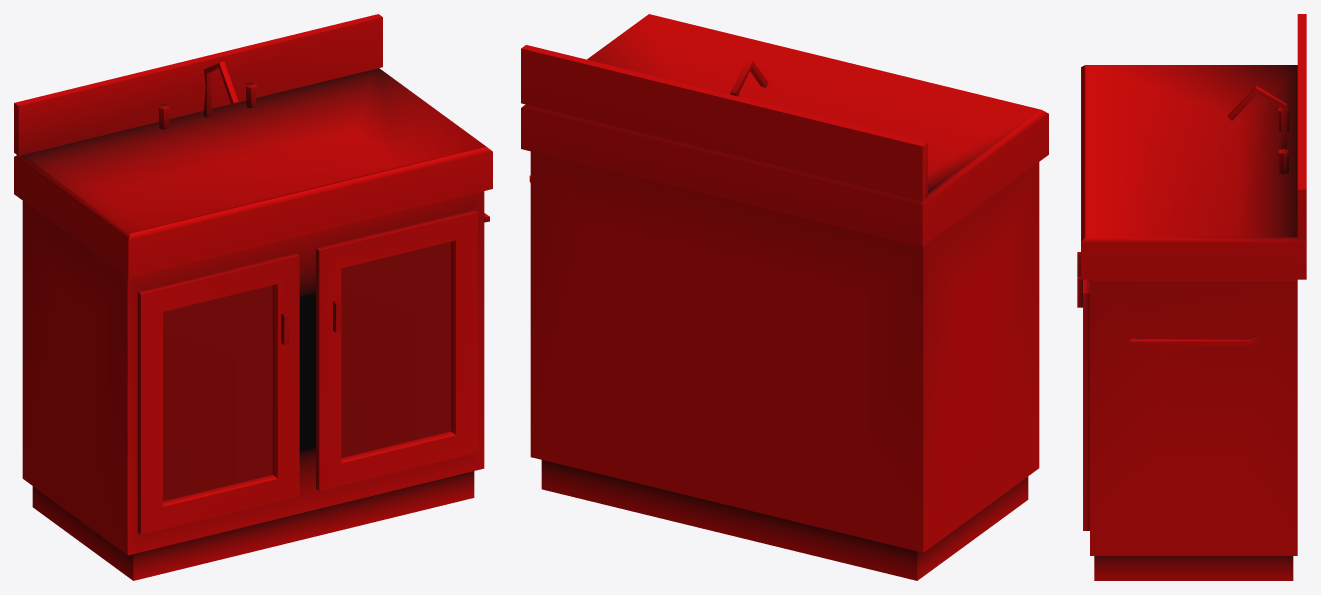
File: CI_Bathroom_Vanity_Basin.glb
3 renders of one model, left to right at view 1: azimuth 30°, elevation 25°; view 2: azimuth 150°, elevation 25°; view 3: azimuth 270°, elevation 25°, orthographic. The views are drawn at different scales.
Parts seen in each view (by area): view 1: CI_Bathroom_Vanity_Basin; view 2: CI_Bathroom_Vanity_Basin; view 3: CI_Bathroom_Vanity_Basin.
Part boxes in pixels (x1,y1,x2,y2): CI_Bathroom_Vanity_Basin: [14, 14, 492, 580]; CI_Bathroom_Vanity_Basin: [521, 14, 1048, 580]; CI_Bathroom_Vanity_Basin: [1077, 14, 1306, 580].
Size of the model in its own units: 0.9756 by 1.01 by 0.508.
